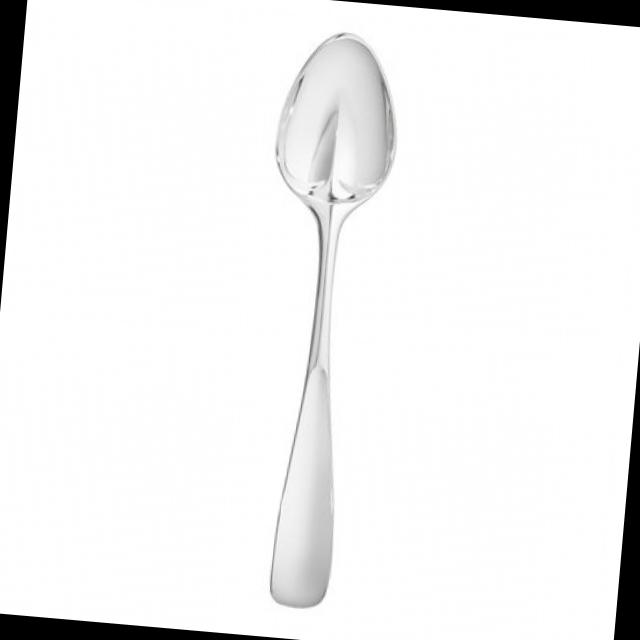spoon: (227, 23, 411, 622)
